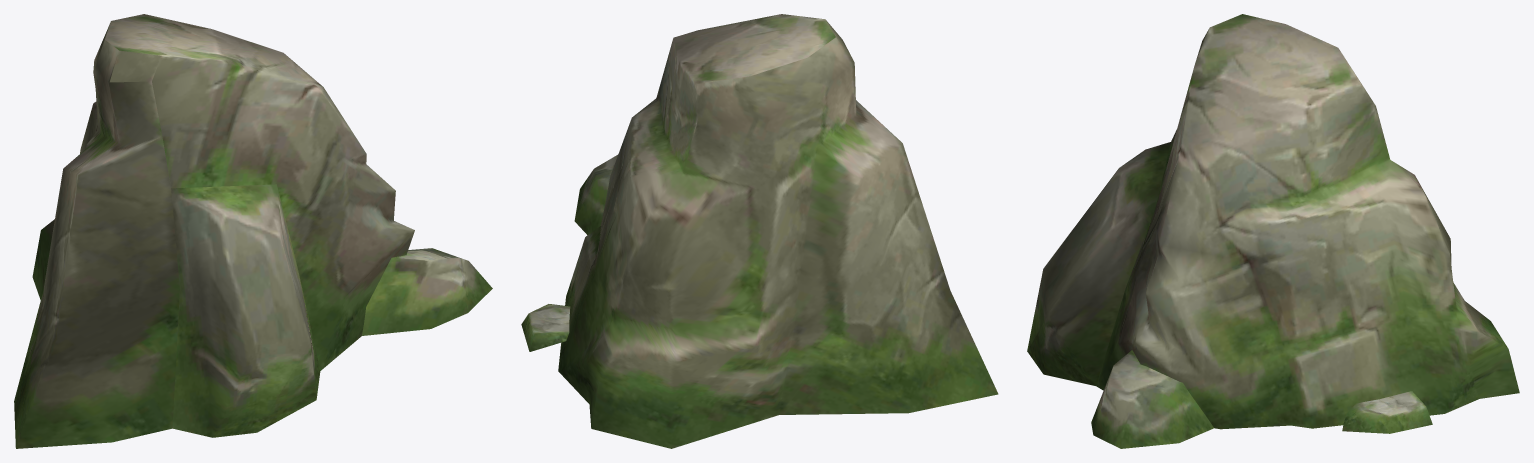
The model's file is shitou_25.FBX.
The picture shows the model from 3 angles, left to right: view 1: azimuth 30°, elevation 25°; view 2: azimuth 150°, elevation 25°; view 3: azimuth 270°, elevation 25°; orthographic projection. The views are drawn at different scales.
Parts seen in each view (by area): view 1: shitou_25; view 2: shitou_25; view 3: shitou_25.
Boxes of the visible parts, box(x1,y1,x2,y2) form: shitou_25: box(14, 14, 492, 448); shitou_25: box(521, 14, 998, 448); shitou_25: box(1027, 14, 1519, 448).
Size of the model in its own units: 198 by 146 by 185.
